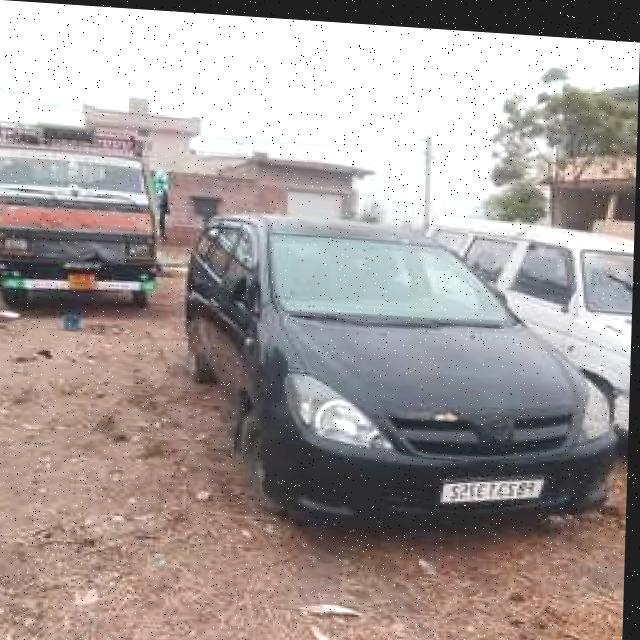plate: (442, 463, 552, 502), (71, 271, 97, 290)
